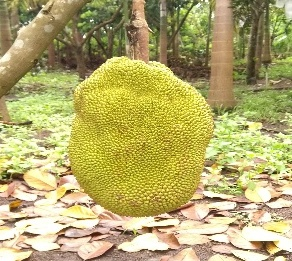Mit: (68, 57, 216, 218)
